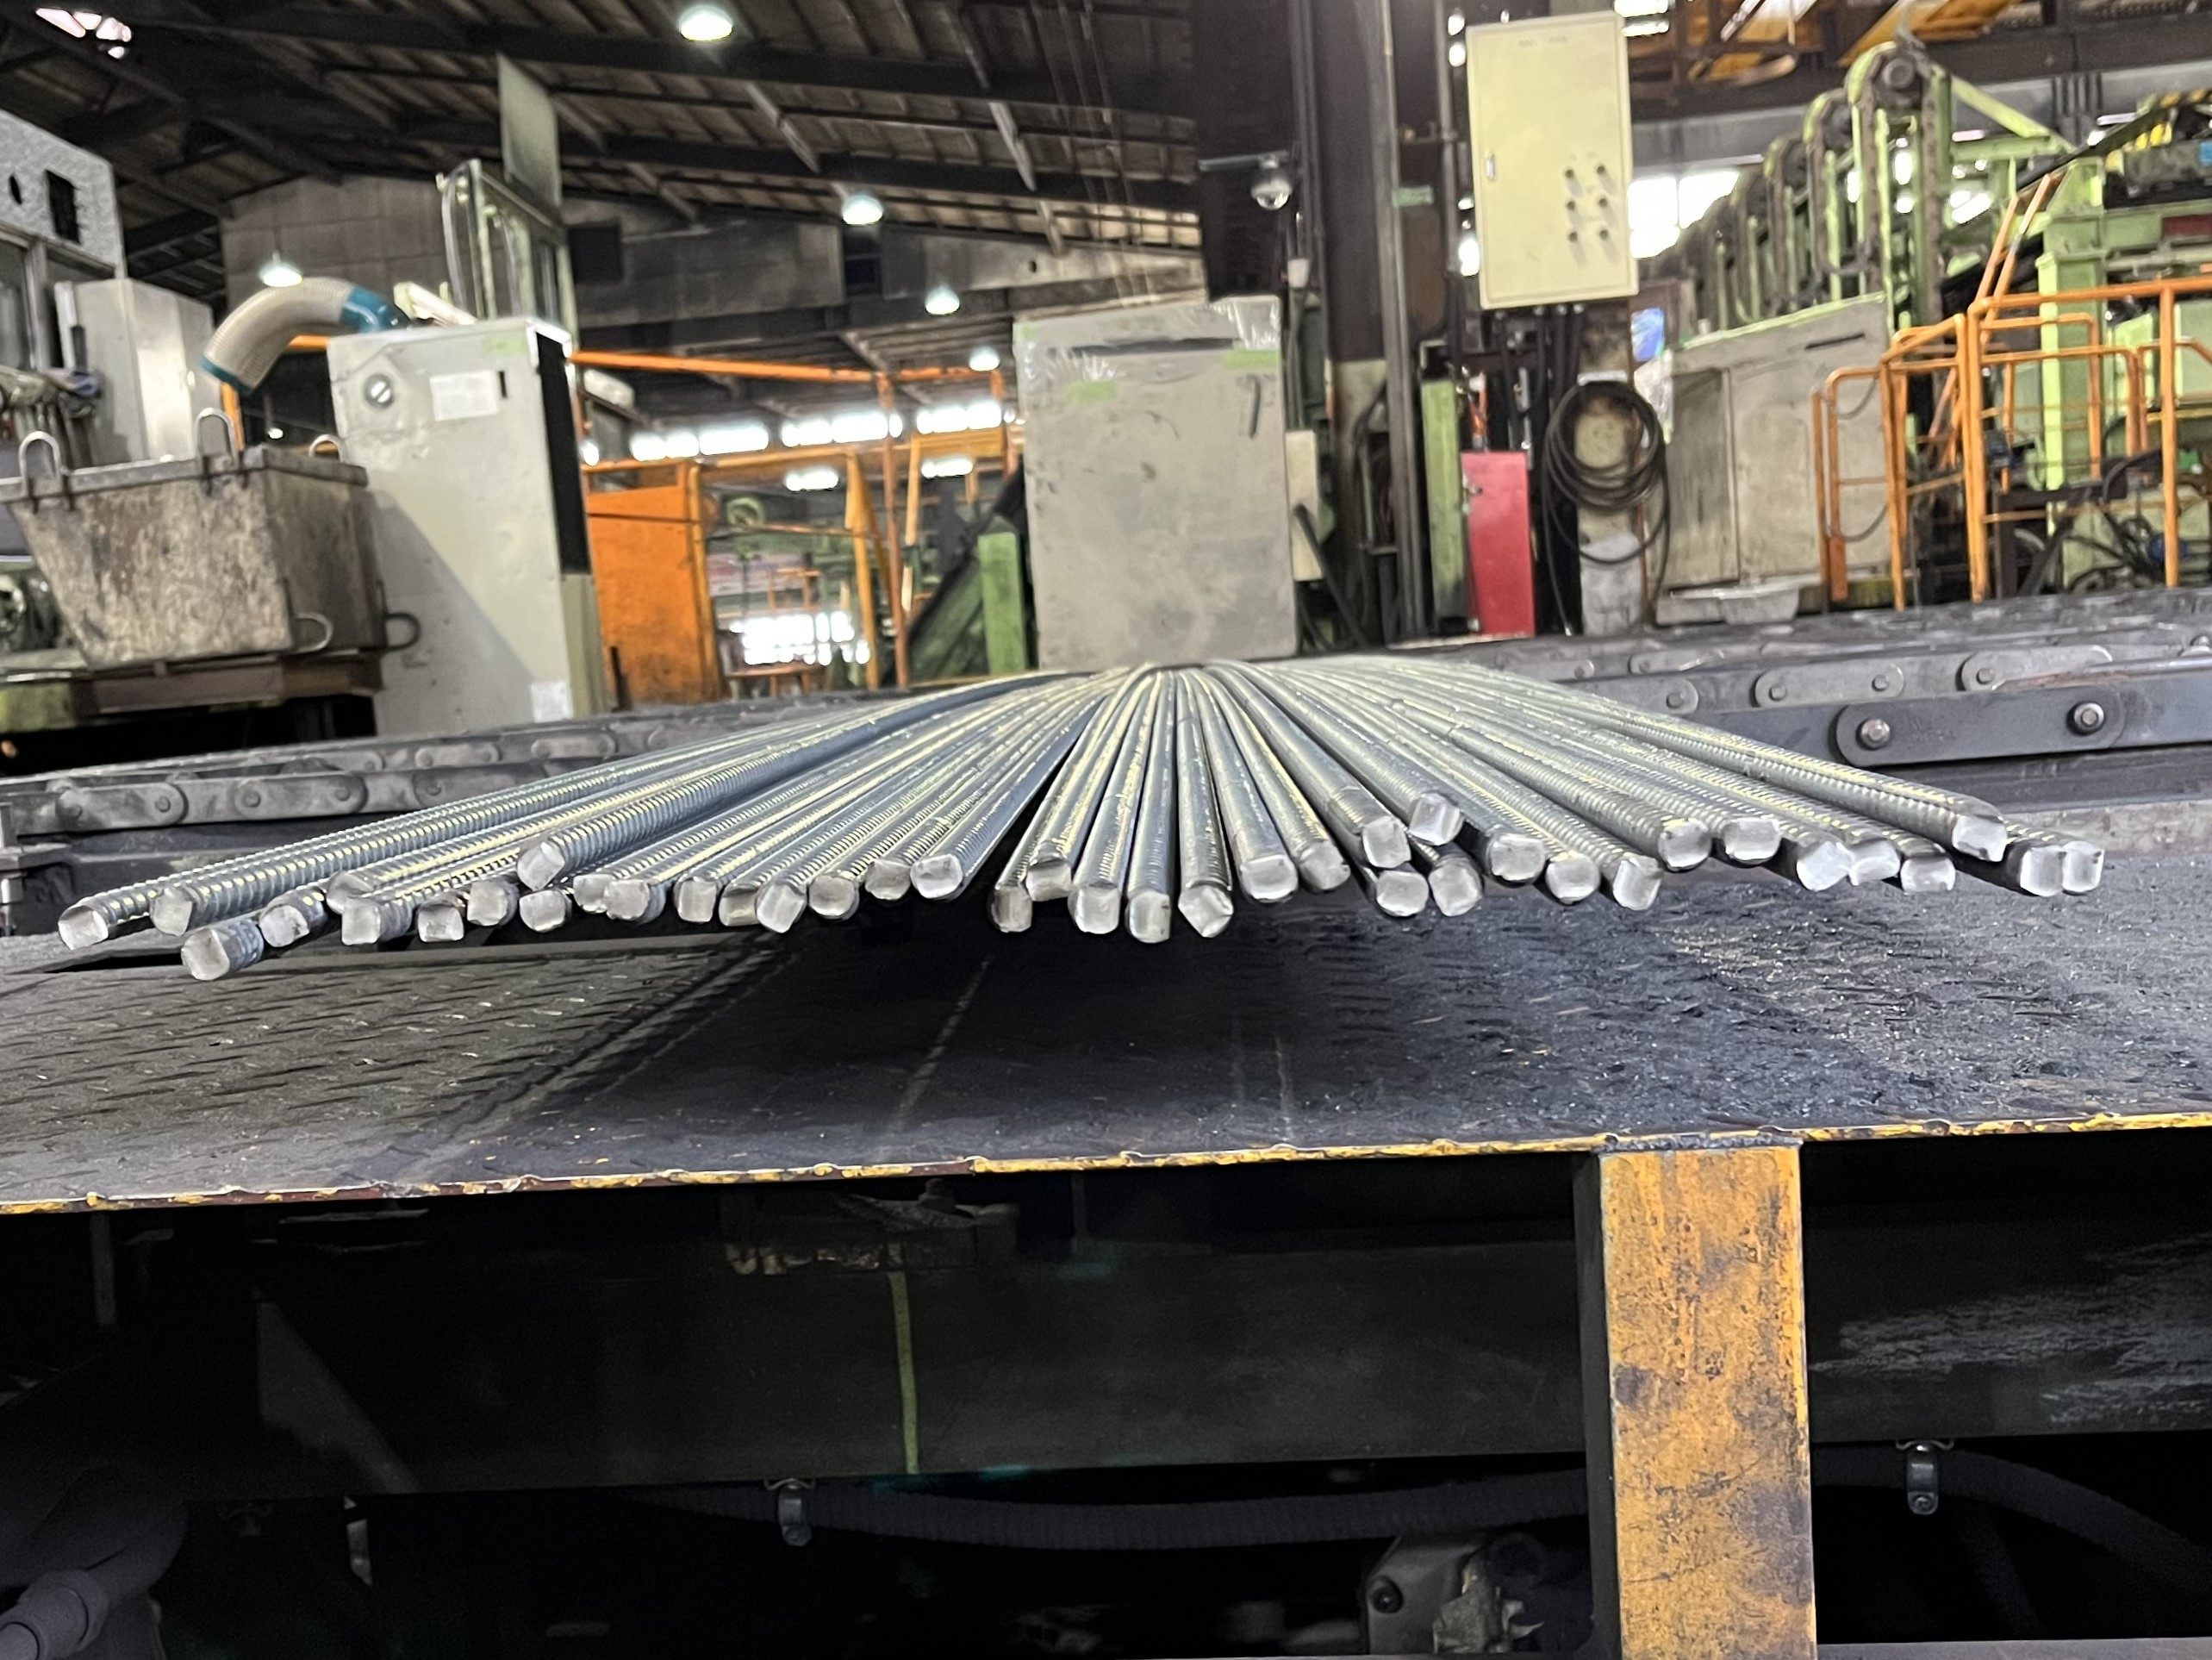rod: (1175, 882, 1234, 940), (1543, 849, 1602, 905), (1795, 837, 1855, 893), (1609, 851, 1663, 912), (176, 924, 232, 982), (1407, 792, 1466, 846), (1947, 811, 2008, 863), (1428, 861, 1483, 917), (1069, 879, 1123, 936), (1656, 818, 1715, 870), (1238, 854, 1299, 905), (1485, 833, 1546, 884), (1720, 816, 1783, 865), (1360, 814, 1414, 870), (1297, 839, 1353, 891), (755, 877, 805, 935), (2017, 842, 2067, 900), (1846, 835, 1902, 886), (805, 872, 859, 922), (908, 853, 966, 900), (56, 903, 110, 952), (1374, 870, 1429, 917), (258, 901, 310, 950), (1126, 891, 1175, 943), (2062, 837, 2106, 895), (1898, 851, 1958, 893), (516, 842, 565, 893), (146, 884, 193, 936), (464, 875, 511, 928), (338, 895, 383, 947), (990, 882, 1035, 935), (516, 891, 570, 935), (1025, 856, 1072, 903), (324, 868, 373, 914), (415, 900, 465, 943), (601, 879, 652, 922), (715, 882, 760, 929), (865, 858, 913, 901), (676, 877, 718, 924), (570, 872, 615, 912)
